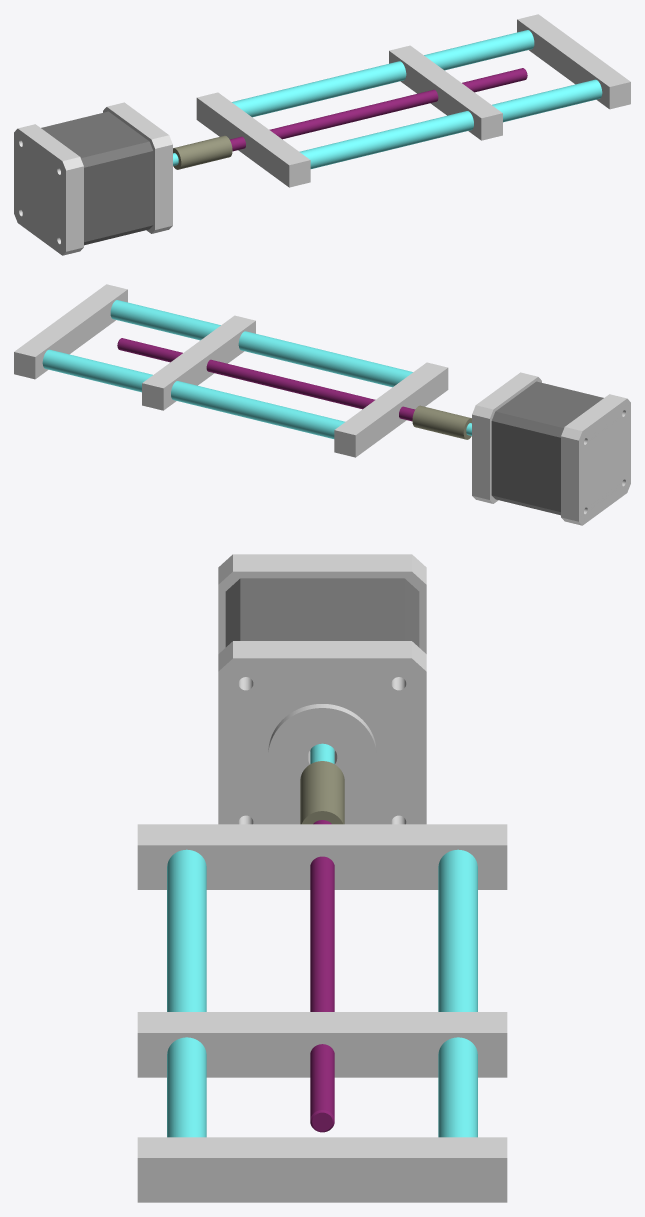
3 views of the same model, one above another, from view 1: azimuth 30°, elevation 25°; view 2: azimuth 150°, elevation 25°; view 3: azimuth 270°, elevation 25° (orthographic). The views are drawn at different scales.
Visible parts, largest first — view 1: out.drive.stepper.stator, out.drive.stepper.botcap, out.rails.rail_0001, out.rails.rail_0000, out.drive_end.box, out.idle_end.box, out.carriage.box, out.drive.thread, out.drive.stepper.topcap, out.drive.coupling; view 2: out.drive.stepper.stator, out.drive.stepper.botcap, out.rails.rail_0000, out.rails.rail_0001, out.drive_end.box, out.idle_end.box, out.carriage.box, out.drive.thread, out.drive.stepper.topcap, out.drive.coupling; view 3: out.drive.stepper.topcap, out.idle_end.box, out.drive_end.box, out.carriage.box, out.drive.stepper.stator, out.rails.rail_0000, out.rails.rail_0001, out.drive.stepper.botcap, out.drive.thread, out.drive.coupling.
Part boxes in pixels (bbox=[...]): out.drive.stepper.stator: bbox=[41, 111, 153, 245]; out.drive.stepper.botcap: bbox=[14, 124, 83, 255]; out.rails.rail_0001: bbox=[299, 79, 602, 168]; out.rails.rail_0000: bbox=[232, 30, 534, 117]; out.drive_end.box: bbox=[196, 92, 310, 187]; out.idle_end.box: bbox=[517, 14, 630, 109]; out.carriage.box: bbox=[389, 45, 502, 140]; out.drive.thread: bbox=[229, 68, 527, 151]; out.drive.stepper.topcap: bbox=[103, 102, 172, 233]; out.drive.coupling: bbox=[173, 135, 232, 169]; out.drive.stepper.stator: bbox=[491, 381, 603, 515]; out.drive.stepper.botcap: bbox=[561, 394, 630, 525]; out.rails.rail_0000: bbox=[42, 349, 345, 438]; out.rails.rail_0001: bbox=[110, 300, 412, 387]; out.drive_end.box: bbox=[334, 362, 448, 457]; out.idle_end.box: bbox=[14, 284, 127, 379]; out.carriage.box: bbox=[142, 315, 255, 410]; out.drive.thread: bbox=[117, 338, 415, 421]; out.drive.stepper.topcap: bbox=[472, 372, 541, 503]; out.drive.coupling: bbox=[412, 405, 471, 439]; out.drive.stepper.topcap: bbox=[218, 641, 426, 824]; out.idle_end.box: bbox=[137, 1137, 507, 1202]; out.drive_end.box: bbox=[137, 824, 507, 889]; out.carriage.box: bbox=[137, 1012, 507, 1077]; out.drive.stepper.stator: bbox=[225, 578, 419, 647]; out.rails.rail_0000: bbox=[438, 849, 477, 1137]; out.rails.rail_0001: bbox=[167, 849, 206, 1137]; out.drive.stepper.botcap: bbox=[218, 554, 426, 653]; out.drive.thread: bbox=[310, 820, 334, 1132]; out.drive.coupling: bbox=[300, 761, 344, 824].
Bounding box in the file's own units: 0.255 × 0.0423 × 0.075.
